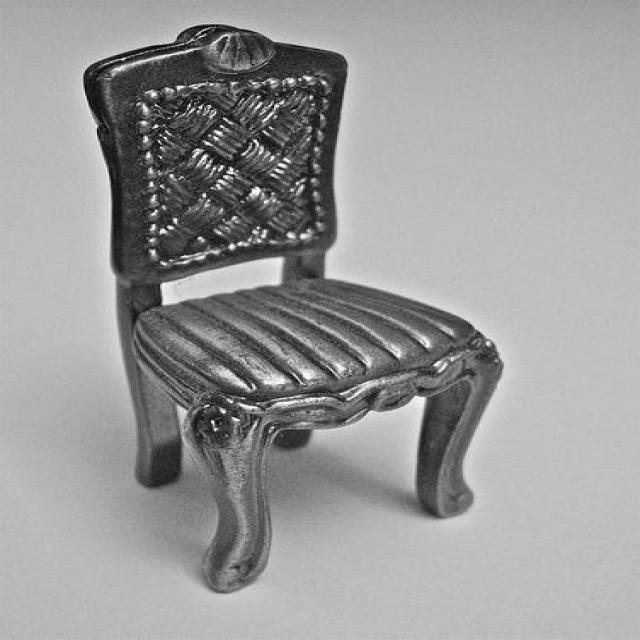chair: (80, 23, 510, 597)
